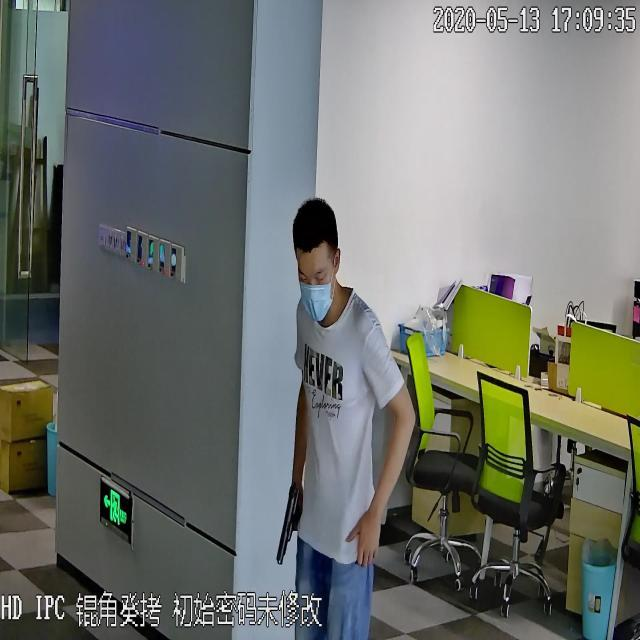gun: (271, 481, 309, 571)
